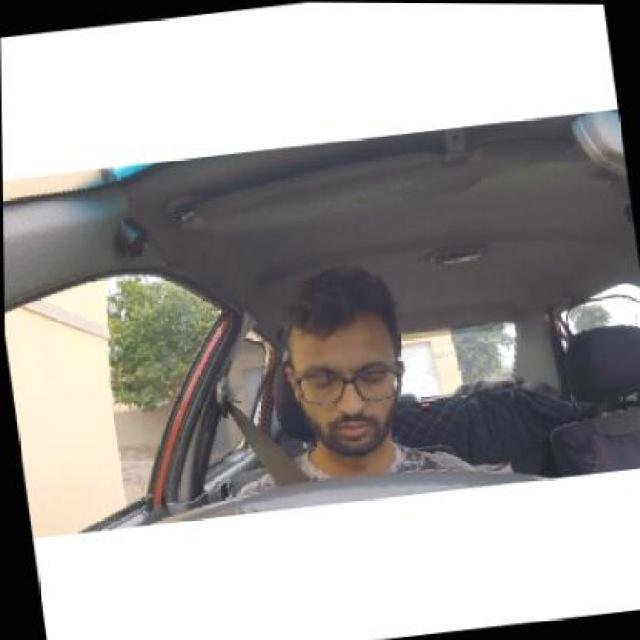drowsy: (273, 269, 417, 465)
